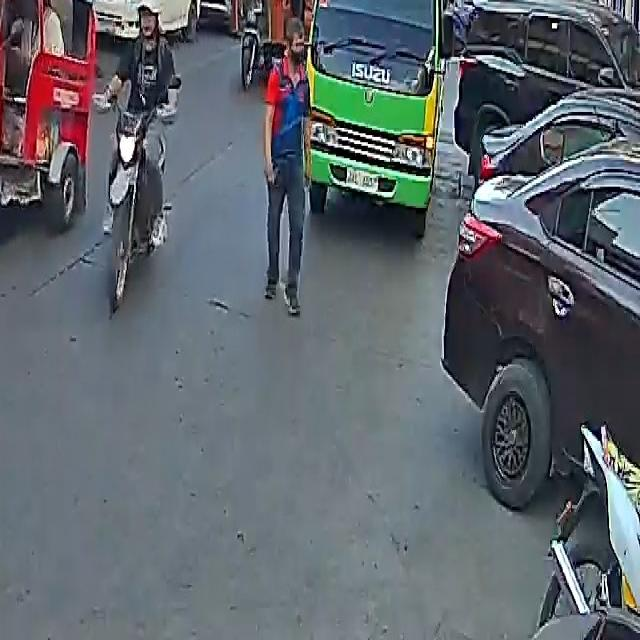car: (443, 137, 640, 510), (451, 0, 640, 181), (86, 0, 202, 44)
